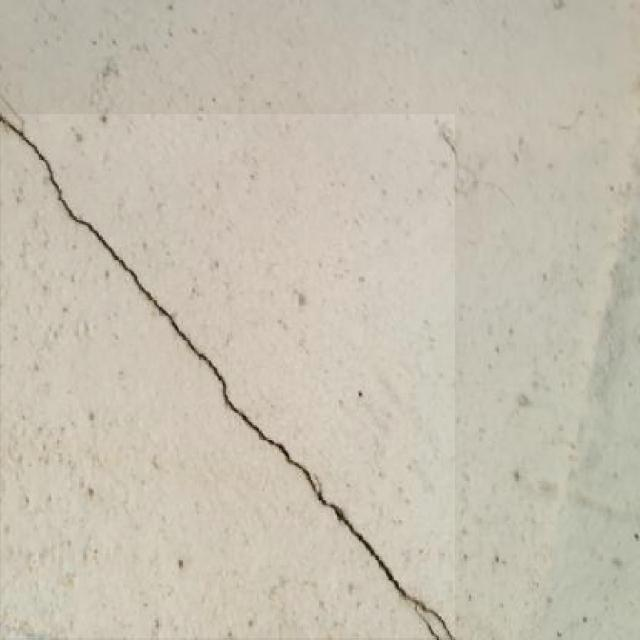Crack: (0, 78, 466, 639)
